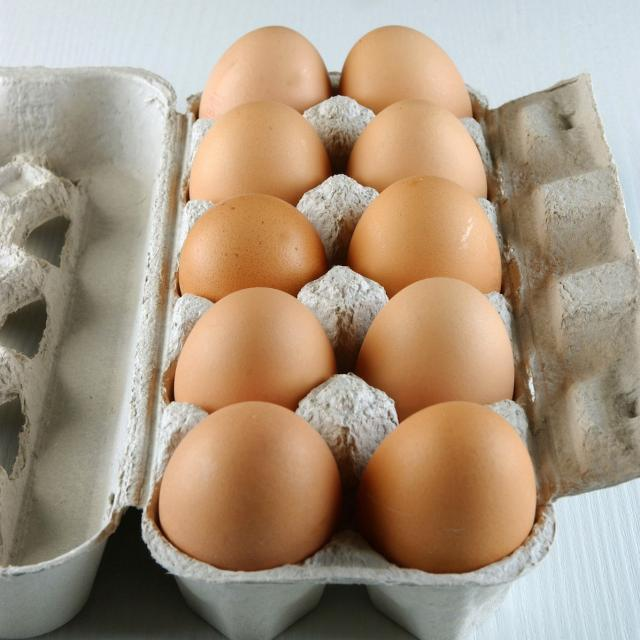Egg: (200, 32, 538, 585), (360, 397, 556, 582), (351, 170, 515, 299), (174, 282, 346, 396)
